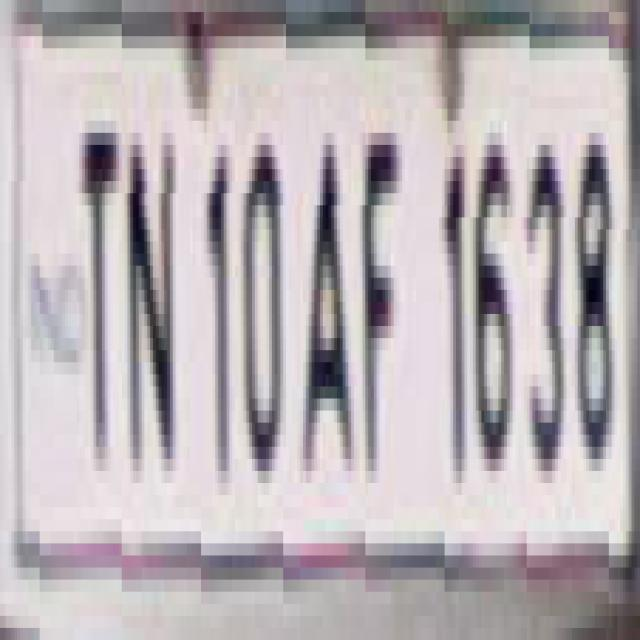license_plate: (3, 0, 612, 628)
